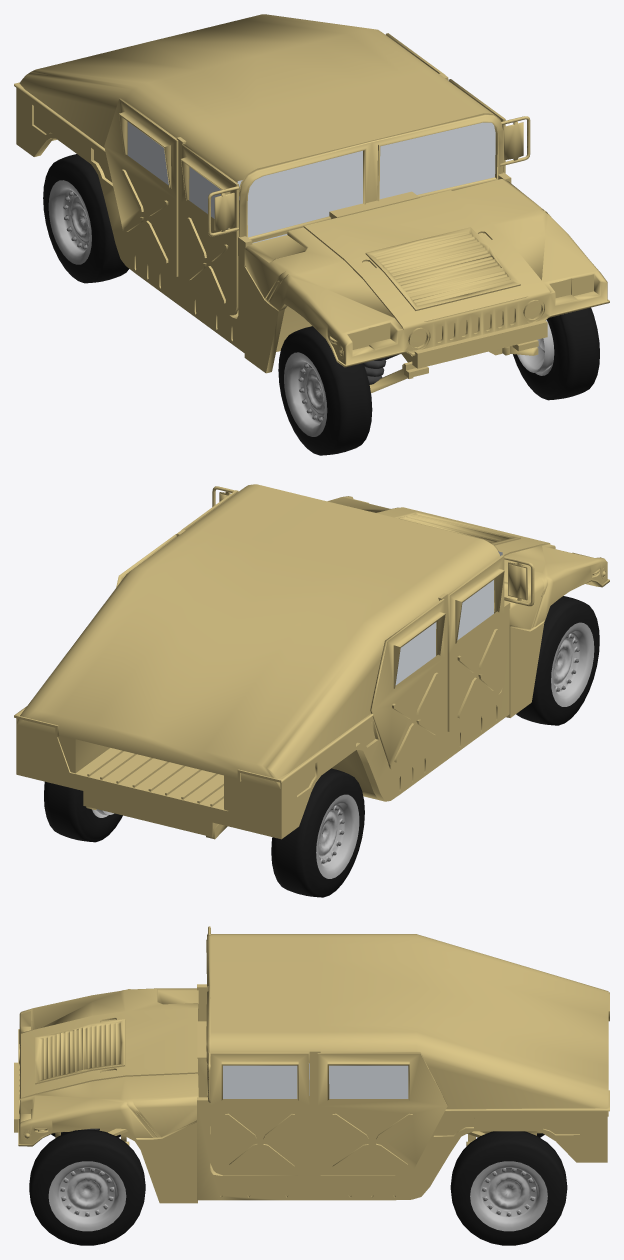
Rendered from asset.gltf.
3 views of the same model, one above another, from view 1: azimuth 30°, elevation 25°; view 2: azimuth 150°, elevation 25°; view 3: azimuth 270°, elevation 25° (orthographic). The views are drawn at different scales.
Parts seen in each view (by area): view 1: body, tires, glass_3, rims, glass_2; view 2: body, tires, rims, glass_2; view 3: body, tires, rims, glass.
Boxes of the visible parts, <box> form: body: <box>14,14,609,393</box>; tires: <box>43,154,599,455</box>; glass_3: <box>237,122,495,243</box>; rims: <box>48,180,554,436</box>; glass_2: <box>127,122,228,228</box>; body: <box>14,484,609,839</box>; tires: <box>44,596,599,897</box>; rims: <box>92,622,594,878</box>; glass_2: <box>395,580,493,685</box>; body: <box>14,926,609,1203</box>; tires: <box>29,1129,567,1245</box>; rims: <box>48,1161,547,1231</box>; glass: <box>223,1063,408,1098</box>.
Bounding box in the file's own units: 1.84 × 1.26 × 3.3.
